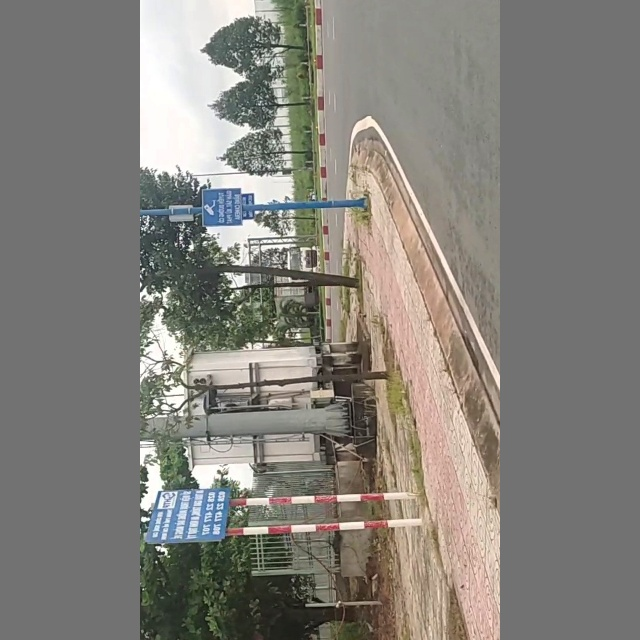Camera: (198, 183, 245, 229)
